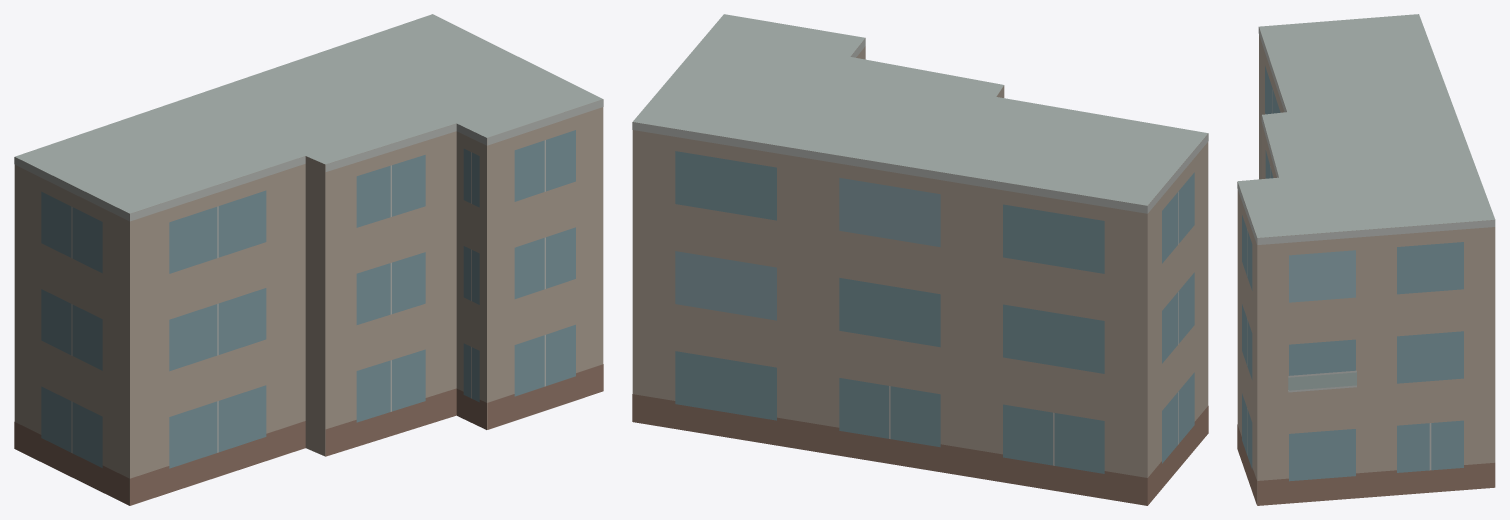
The model's file is survey-upis-32952834.glb.
3 views of the same model, side by side, from view 1: azimuth 30°, elevation 25°; view 2: azimuth 150°, elevation 25°; view 3: azimuth 270°, elevation 25° (orthographic). The views are drawn at different scales.
Parts seen in each view (by area): view 1: survey-upis-32952834.tmp; view 2: survey-upis-32952834.tmp; view 3: survey-upis-32952834.tmp.
Part boxes in pixels (x1=…): survey-upis-32952834.tmp: x1=14, y1=14, x2=603, y2=505; survey-upis-32952834.tmp: x1=632, y1=14, x2=1208, y2=505; survey-upis-32952834.tmp: x1=1237, y1=14, x2=1495, y2=505.
Bounding box in the file's own units: 16.42 × 9.15 × 8.
